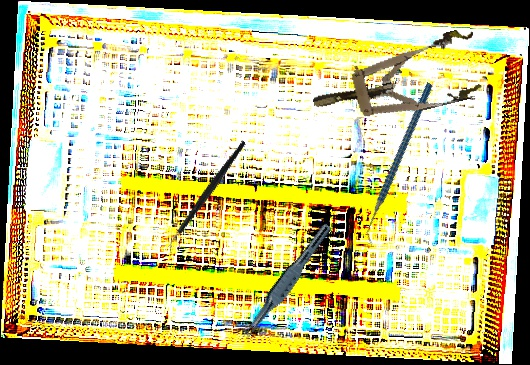Chopper: (320, 81, 480, 248), (140, 139, 275, 256)
Speculum: (305, 26, 488, 136)
Tissue Forceps: (238, 218, 334, 345)
